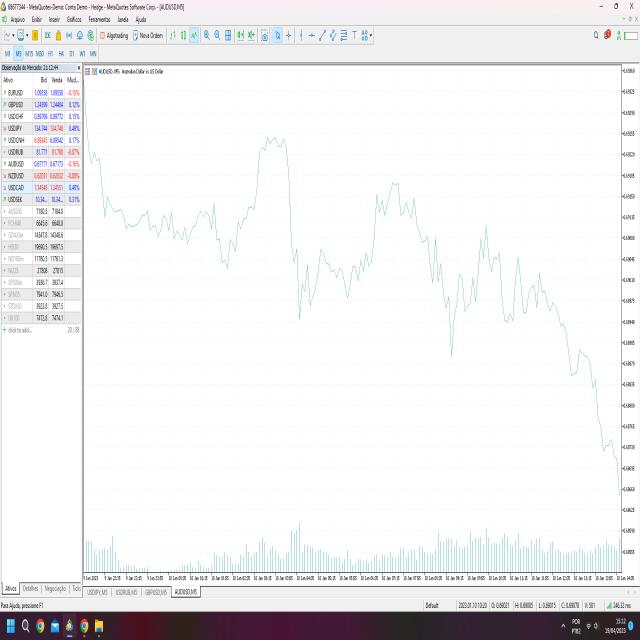oco: (369, 134, 430, 277)
